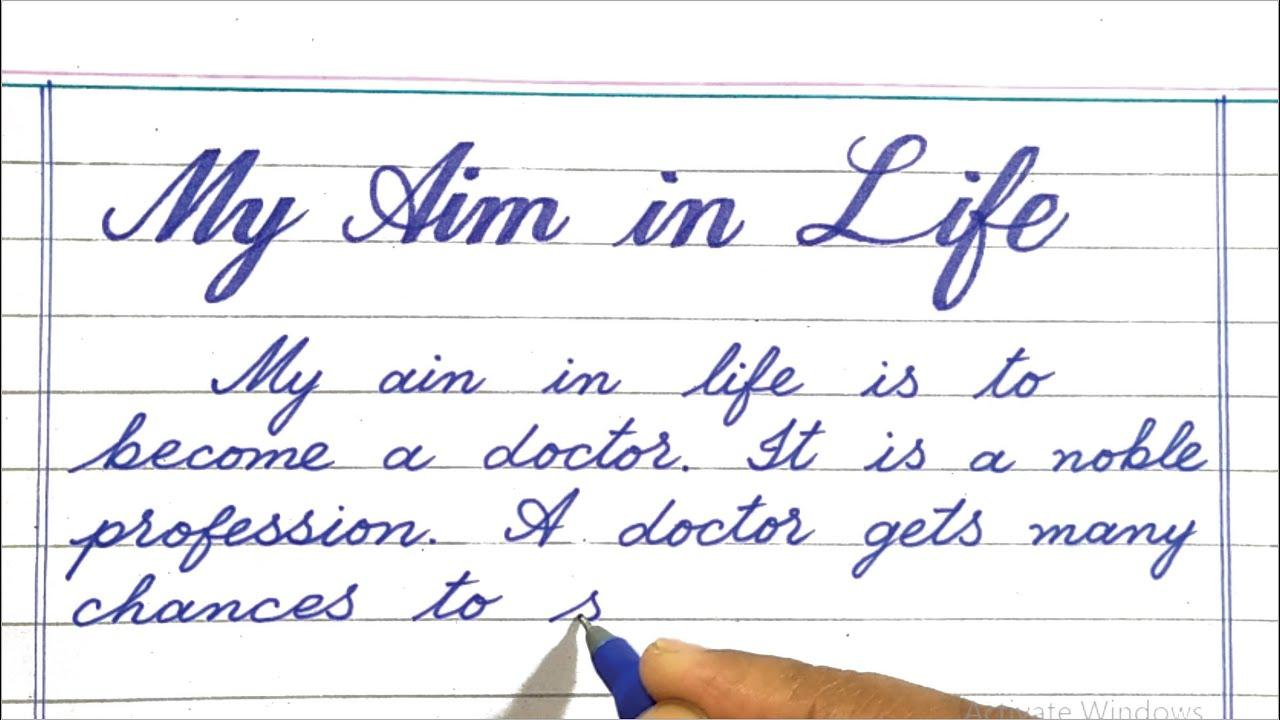text: (97, 133, 1074, 316), (58, 485, 1201, 585), (207, 333, 1059, 437), (61, 410, 1211, 480), (67, 568, 605, 629)
